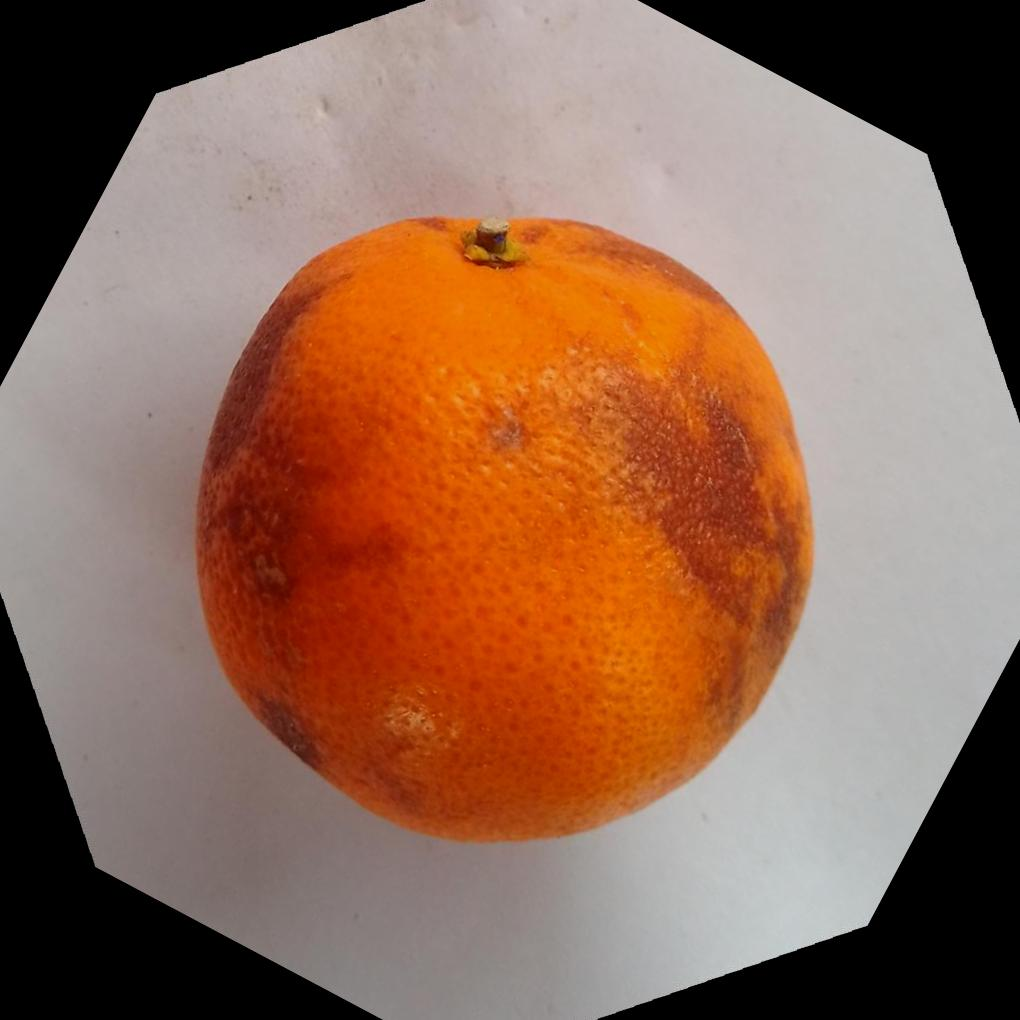FreshOrange: (190, 212, 812, 844)
